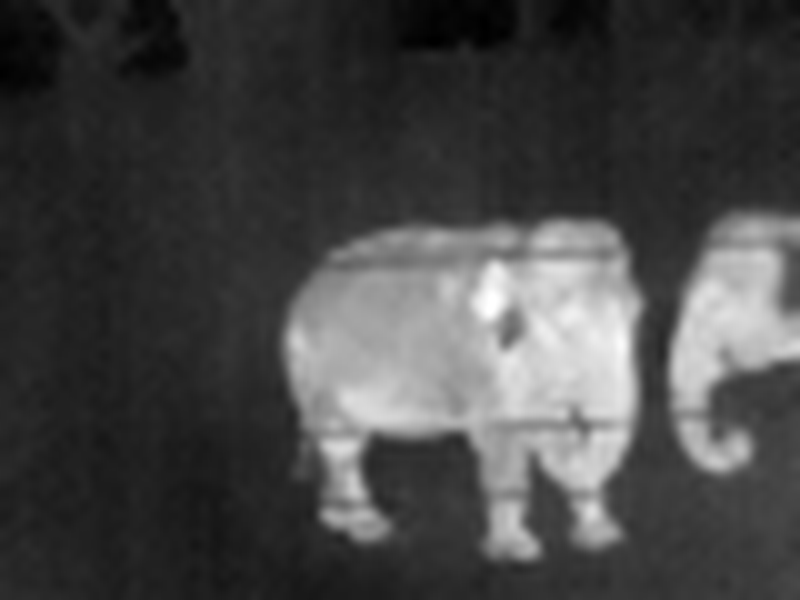elephant: (281, 214, 800, 585)
